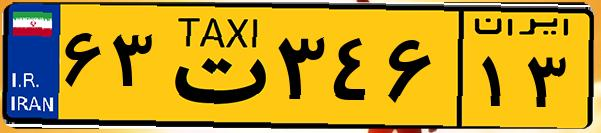1: (475, 38, 525, 113)
3: (270, 28, 330, 110), (525, 38, 570, 115), (110, 28, 158, 98)
4: (330, 28, 385, 110)
6: (385, 28, 445, 110), (57, 26, 110, 100)
ت: (158, 12, 270, 120)
